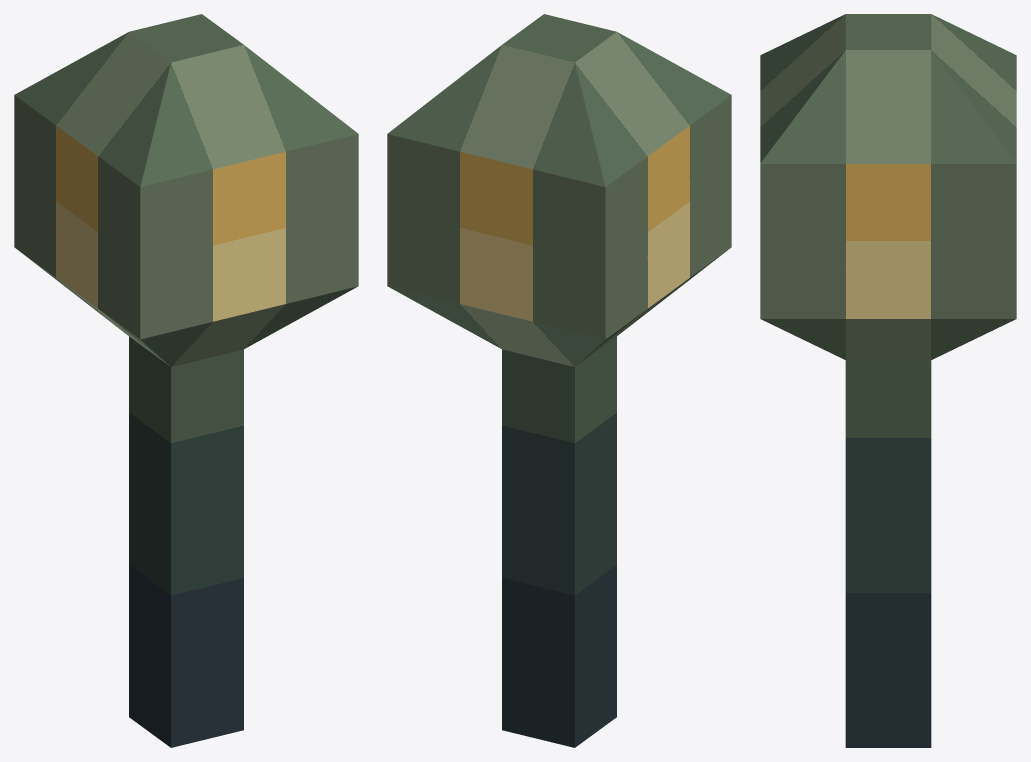
Rendered from torch.glb.
3 renders of one model, left to right at view 1: azimuth 30°, elevation 25°; view 2: azimuth 150°, elevation 25°; view 3: azimuth 270°, elevation 25°, orthographic.
Parts seen in each view (by area): view 1: Cube; view 2: Cube; view 3: Cube.
Boxes of the visible parts, x1,y1,x2,y2 form: Cube: [14, 14, 358, 747]; Cube: [387, 14, 731, 747]; Cube: [760, 14, 1016, 747].
Size of the model in its own units: 0.375 by 1.12 by 0.375.
1 material, 1 textured.
